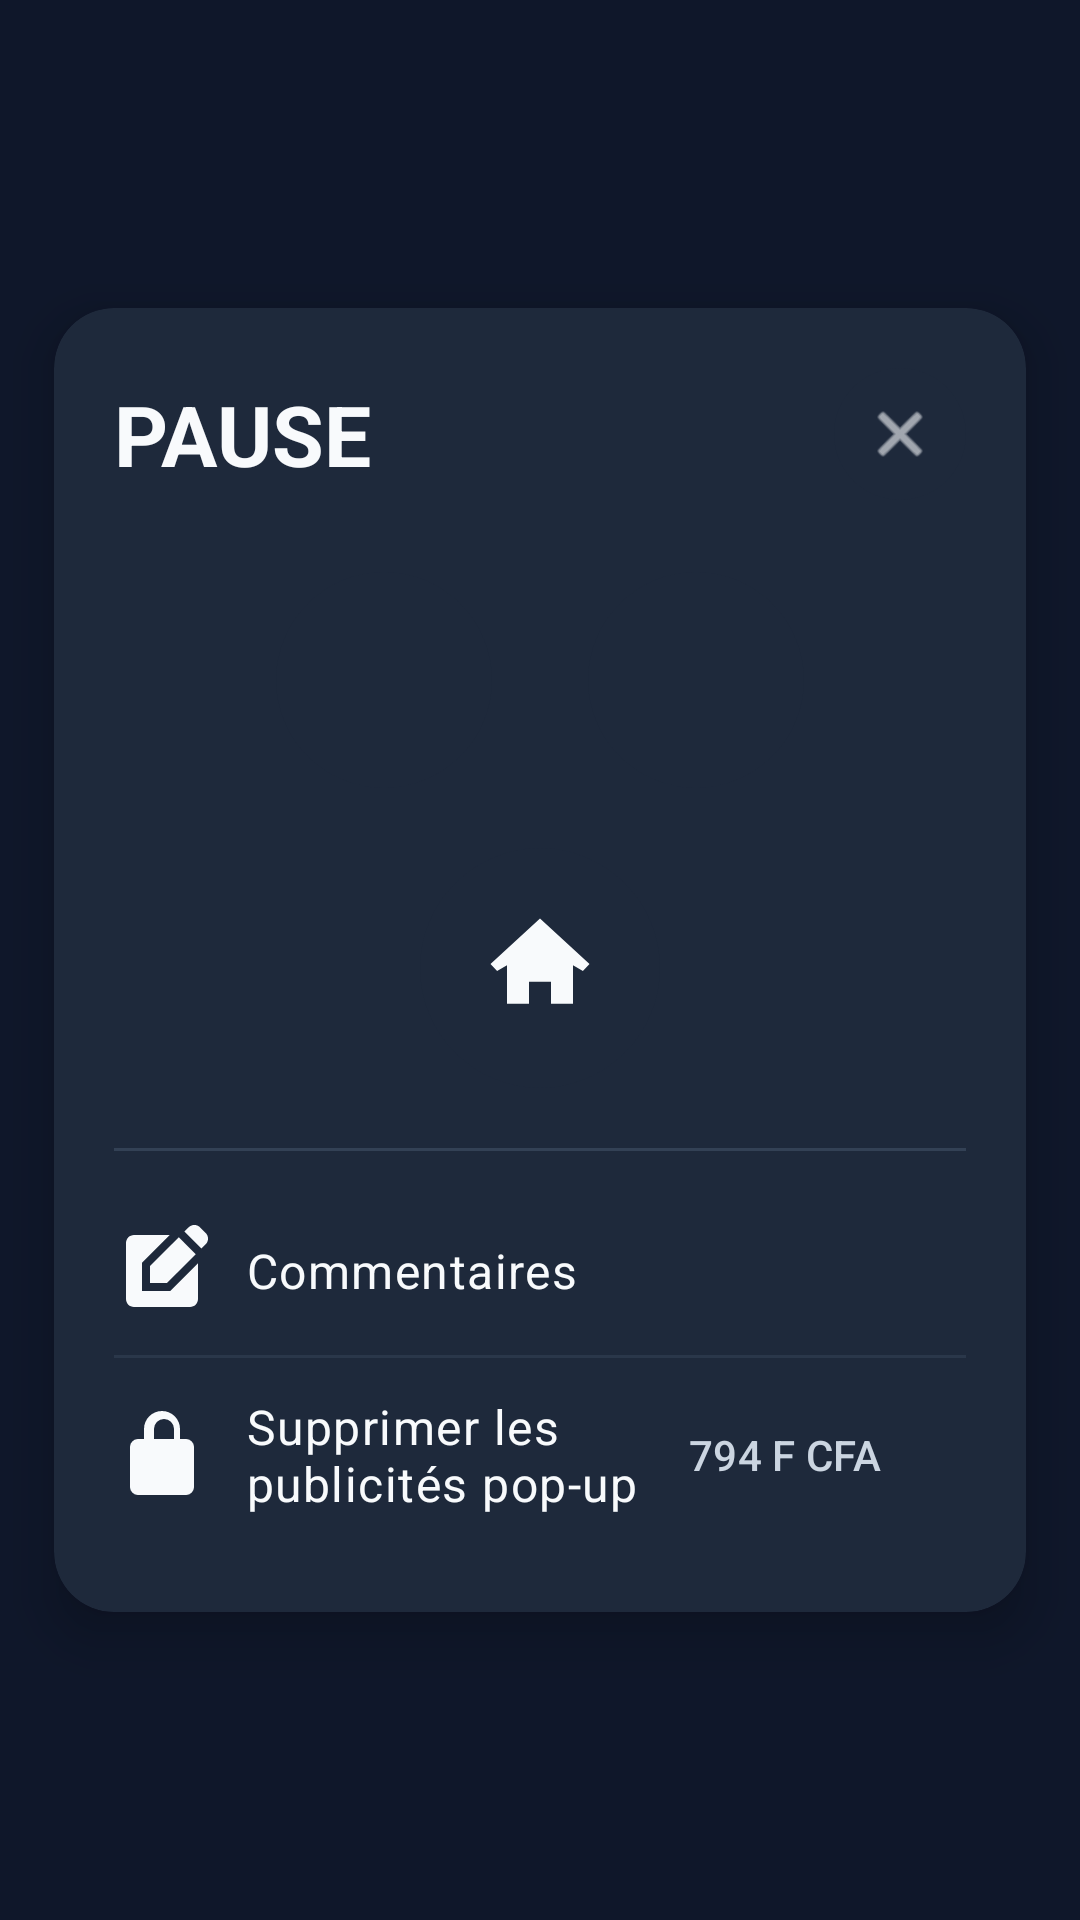

Screen size 1080px×1920px. Icon name, then its center in pixels as point (x, y):
Accueil: point (540, 961)
Annuler: point (900, 434)
lock: point (162, 1453)
